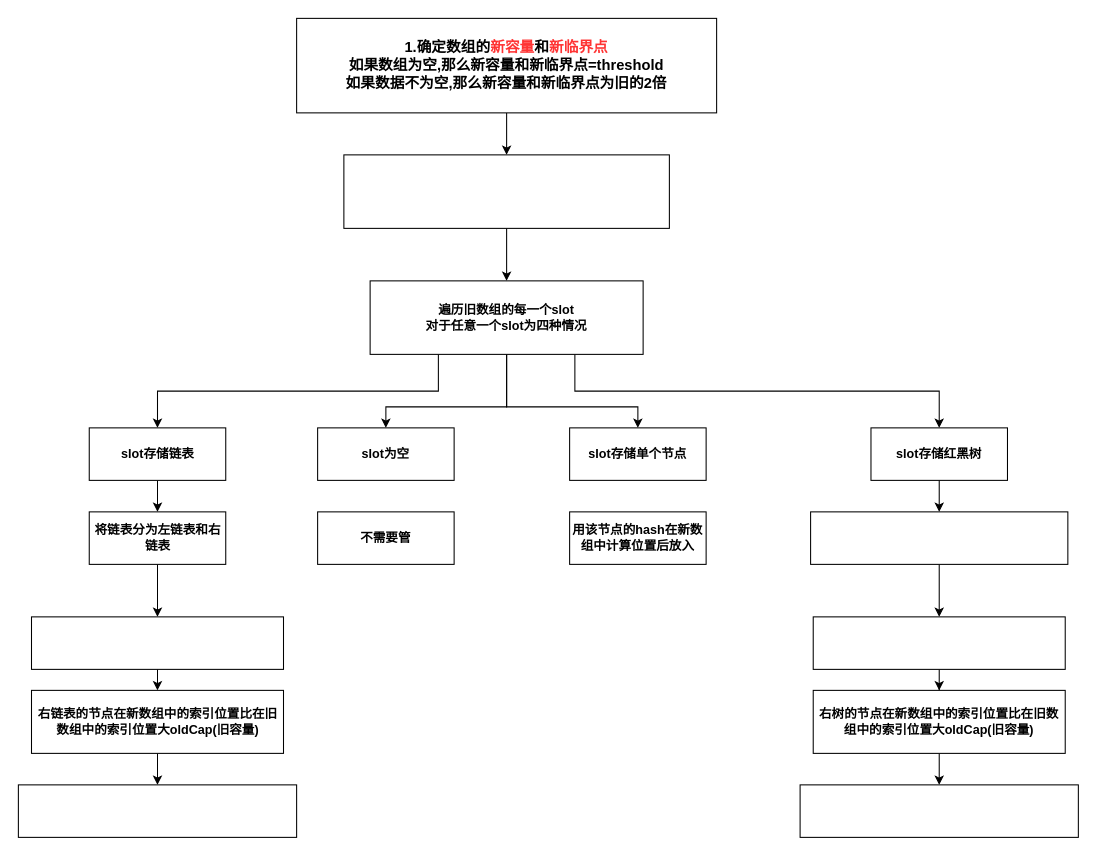
Image size: 1097x856. Some labels were removed from this diagram. Here are the shapes that lost their labels. From the top down, the centre of each, then its label:
At (506,191): "根据新容量创建新数组 如果旧数组为空，那么 返回——完成初始化".
At (939,537): "将树分为左树和右树(如果树太小,就取消树化)".
At (157,642): "左链表的节点在新旧数组中索引位置相同".
At (938,642): "左树的节点在新旧数组中索引位置相同".
At (157,810): "将左链表放到新数组中(位置与旧数组相同) 右链表放到新数组中(位置比旧数组大oldCap)".
At (938,810): "将左树放到新数组中(位置与旧数组相同) 右树放到新数组中(位置比旧数组大oldCap)".
